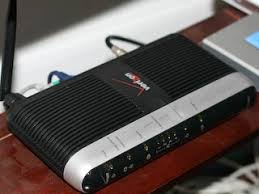Verizon Router: (2, 1, 258, 193)
